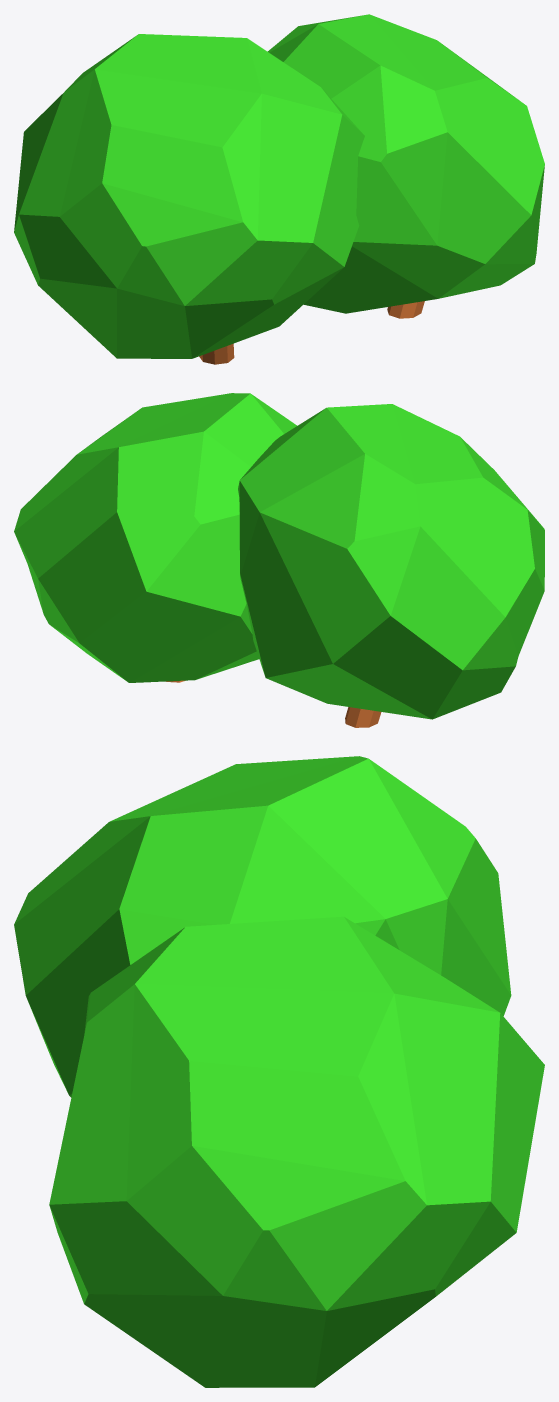
The model's file is trees_9.fbx.
The picture shows the model from 3 angles, top to bottom: view 1: azimuth 30°, elevation 25°; view 2: azimuth 150°, elevation 25°; view 3: azimuth 270°, elevation 25°; orthographic projection. The views are drawn at different scales.
Visible parts, largest first — view 1: 9; view 2: 9; view 3: 9.
Part boxes in pixels (left/top/right/bottom): 9: left=14, top=14, right=544, bottom=364; 9: left=14, top=393, right=544, bottom=727; 9: left=14, top=756, right=544, bottom=1387.
Size of the model in its own units: 2.26 by 1.37 by 1.47.
